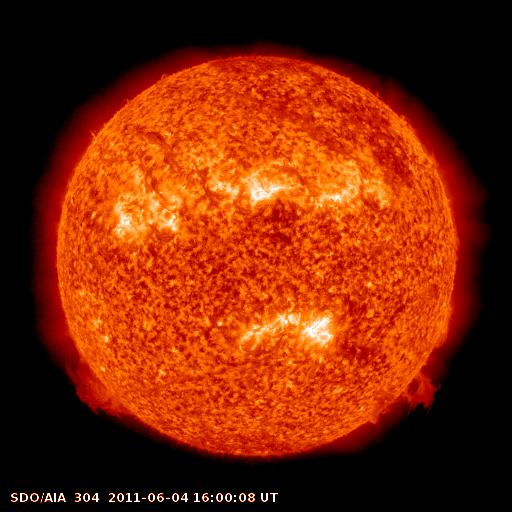prominence: (57, 347, 148, 427), (361, 368, 442, 430), (428, 300, 458, 353)
